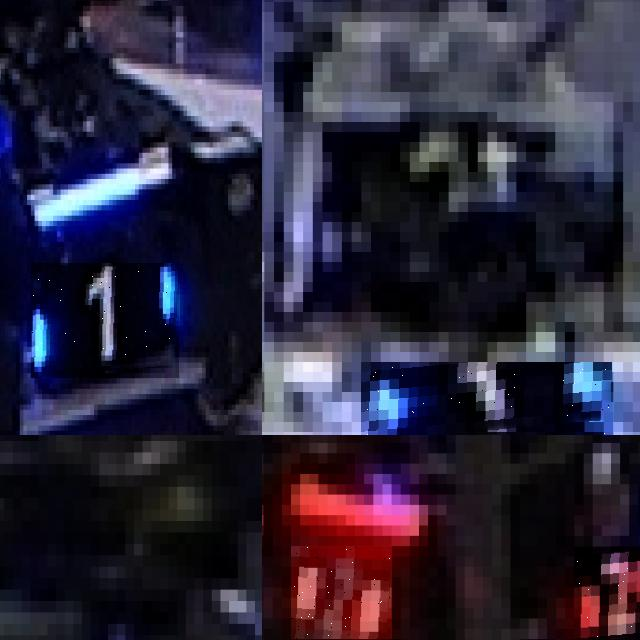B1: (361, 362, 613, 435), (31, 263, 179, 378)
R2: (291, 546, 392, 639), (574, 546, 640, 640)
